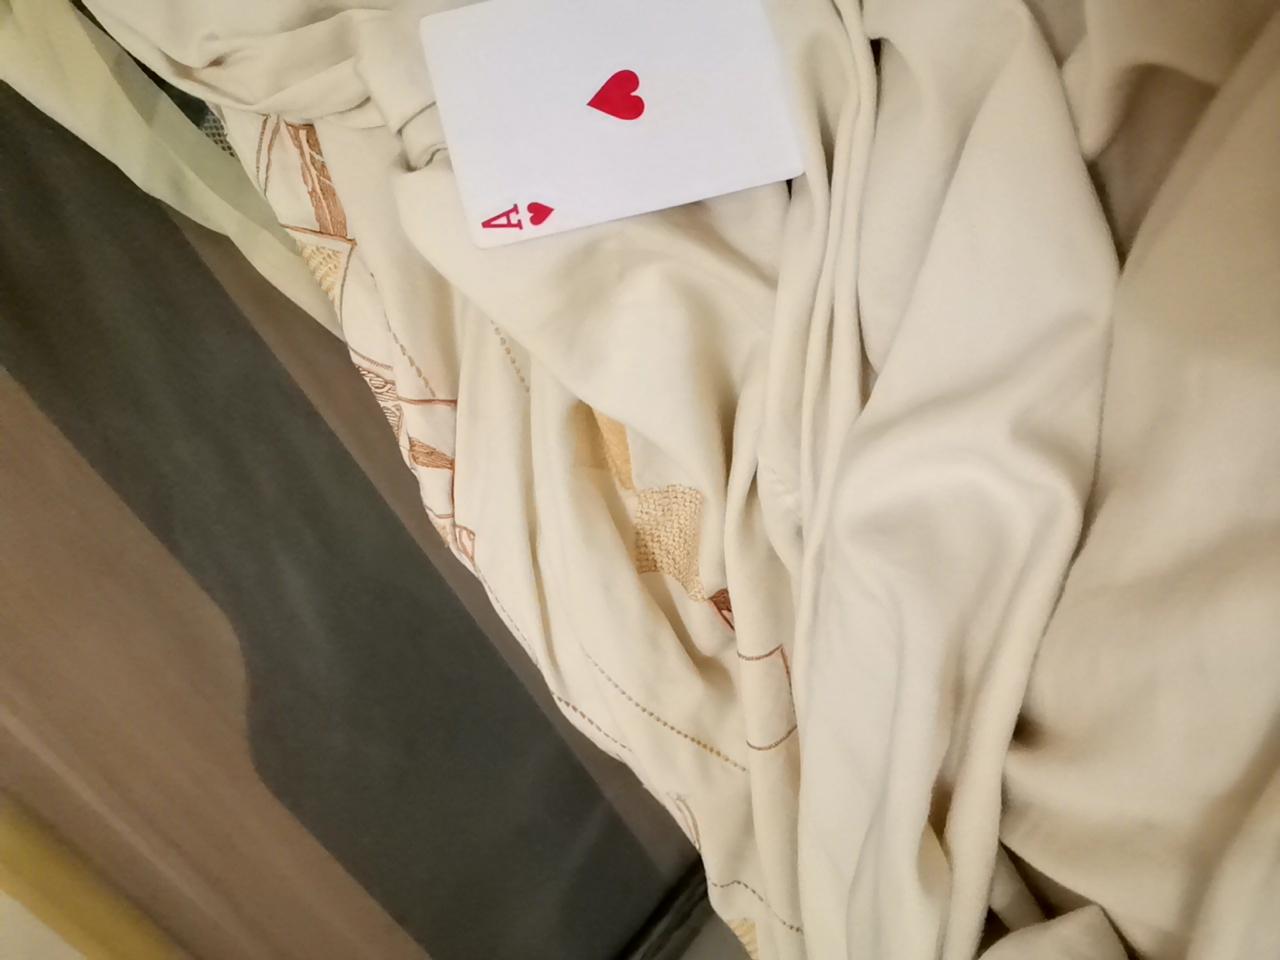hx a: (423, 0, 804, 265)
